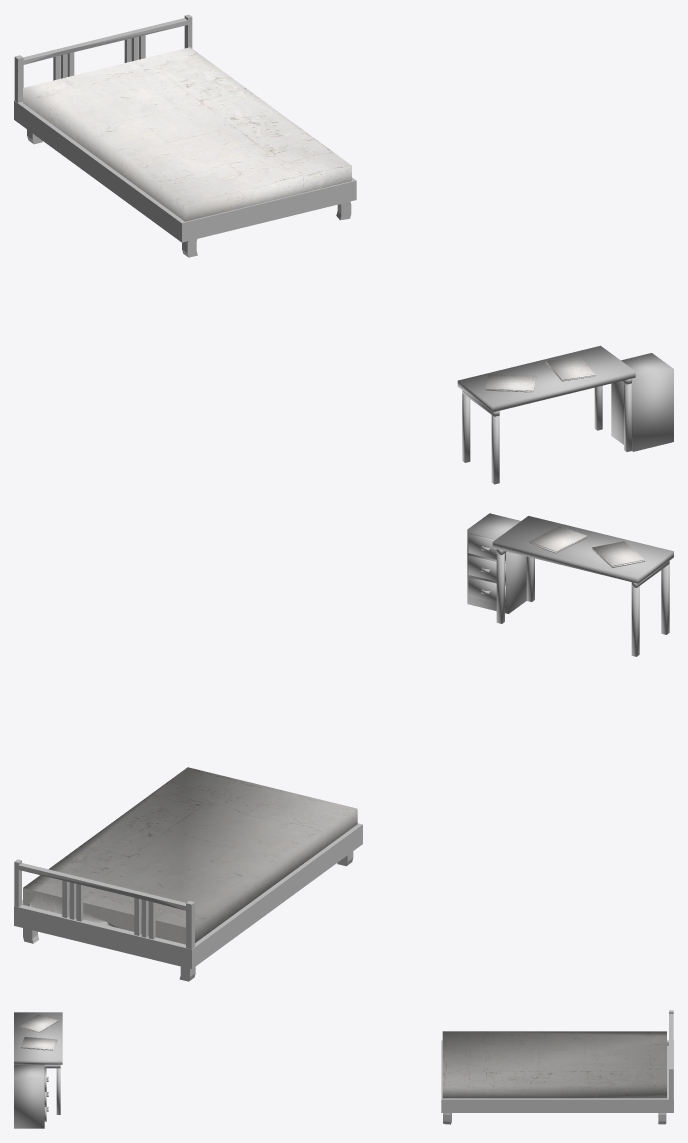
Rendered from MEJAKASUR.obj.
3 views of the same model, one above another, from view 1: azimuth 30°, elevation 25°; view 2: azimuth 150°, elevation 25°; view 3: azimuth 270°, elevation 25° (orthographic). The views are drawn at different scales.
Visible parts, largest first — view 1: Cube.009_Cube.001, Cube.015, default.005_Mesh.002, default.009_Mesh.286, Cube.010_Cube.002, default.010_Mesh.282, default.004_Mesh.282; view 2: Cube.009_Cube.001, Cube.015, default.005_Mesh.002, default.009_Mesh.286, Cube.010_Cube.002, default.004_Mesh.282, default.010_Mesh.282; view 3: Cube.009_Cube.001, Cube.015, default.005_Mesh.002, default.009_Mesh.286, Cube.010_Cube.002, default.004_Mesh.282, default.010_Mesh.282.
Part boxes in pixels (x1,y1,x2,y2): Cube.009_Cube.001: (23, 47, 351, 221); Cube.015: (14, 100, 356, 242); default.005_Mesh.002: (457, 345, 635, 484); default.009_Mesh.286: (611, 353, 673, 451); Cube.010_Cube.002: (14, 14, 192, 102); default.010_Mesh.282: (485, 374, 536, 392); default.004_Mesh.282: (545, 356, 595, 381); Cube.009_Cube.001: (23, 767, 357, 944); Cube.015: (14, 823, 362, 968); default.005_Mesh.002: (492, 516, 673, 656); default.009_Mesh.286: (467, 513, 526, 613); Cube.010_Cube.002: (14, 859, 194, 949); default.004_Mesh.282: (528, 526, 587, 553); default.010_Mesh.282: (592, 541, 645, 567); Cube.009_Cube.001: (442, 1031, 666, 1098); Cube.015: (441, 1040, 673, 1112); default.005_Mesh.002: (14, 1012, 62, 1114); default.009_Mesh.286: (14, 1064, 48, 1128); Cube.010_Cube.002: (669, 1010, 673, 1099); default.004_Mesh.282: (20, 1037, 57, 1050); default.010_Mesh.282: (19, 1014, 58, 1032).
Size of the model in its own units: 1.32 by 0.5636 by 5.94.
